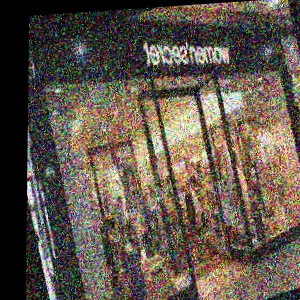women_secret: (182, 19, 292, 56)
